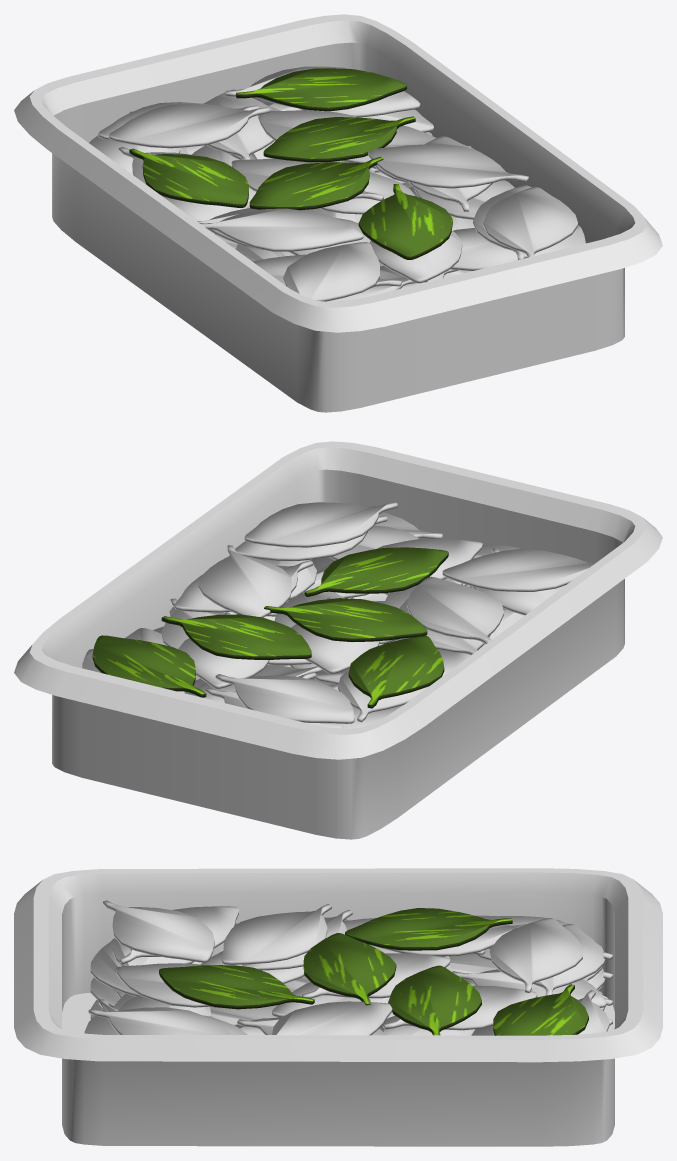
File: ToppingBinBasil.fbx
3 views of the same model, one above another, from view 1: azimuth 30°, elevation 25°; view 2: azimuth 150°, elevation 25°; view 3: azimuth 270°, elevation 25° (orthographic).
Parts seen in each view (by area): view 1: Bin_Basil, Plane.401, Plane.402, Plane.407, Plane.406, Plane.403, Plane.405, Plane.404, Plane.408, Plane.409, Plane.410, Plane.398 (+17 smaller); view 2: Bin_Basil, Plane.405, Plane.409, Plane.403, Plane.408, Plane.410, Plane.402, Plane.404, Plane.407, Plane.406, Plane.401, Plane.393 (+13 smaller); view 3: Bin_Basil, Plane.404, Plane.408, Plane.410, Plane.407, Plane.405, Plane.402, Plane.403, Plane.401, Plane.406, Plane.409, Plane.398 (+20 smaller).
Part boxes in pixels (<box>): Bin_Basil: <box>14,14,662,412</box>; Plane.401: <box>236,68,406,111</box>; Plane.402: <box>109,103,269,148</box>; Plane.407: <box>199,208,363,251</box>; Plane.406: <box>368,144,528,188</box>; Plane.403: <box>263,116,415,162</box>; Plane.405: <box>249,157,383,210</box>; Plane.404: <box>129,148,248,207</box>; Plane.408: <box>358,184,452,259</box>; Plane.409: <box>483,187,577,257</box>; Plane.410: <box>283,242,379,301</box>; Plane.398: <box>370,231,462,283</box>; Bin_Basil: <box>14,441,662,839</box>; Plane.405: <box>264,598,427,641</box>; Plane.409: <box>244,502,397,547</box>; Plane.403: <box>161,614,311,659</box>; Plane.408: <box>304,547,448,596</box>; Plane.410: <box>442,549,595,591</box>; Plane.402: <box>215,674,354,723</box>; Plane.404: <box>348,635,444,708</box>; Plane.407: <box>407,576,503,644</box>; Plane.406: <box>198,545,291,617</box>; Plane.401: <box>92,635,206,697</box>; Plane.393: <box>178,612,269,688</box>; Bin_Basil: <box>14,868,662,1146</box>; Plane.404: <box>345,908,512,950</box>; Plane.408: <box>159,965,314,1009</box>; Plane.410: <box>103,900,214,962</box>; Plane.407: <box>221,904,331,964</box>; Plane.405: <box>303,933,396,1005</box>; Plane.402: <box>490,918,582,992</box>; Plane.403: <box>388,965,481,1035</box>; Plane.401: <box>493,984,588,1035</box>; Plane.406: <box>271,1001,392,1035</box>; Plane.409: <box>88,1007,230,1034</box>; Plane.398: <box>116,963,211,1007</box>.
Size of the model in its own units: 0.5853 by 0.1715 by 0.8779.
